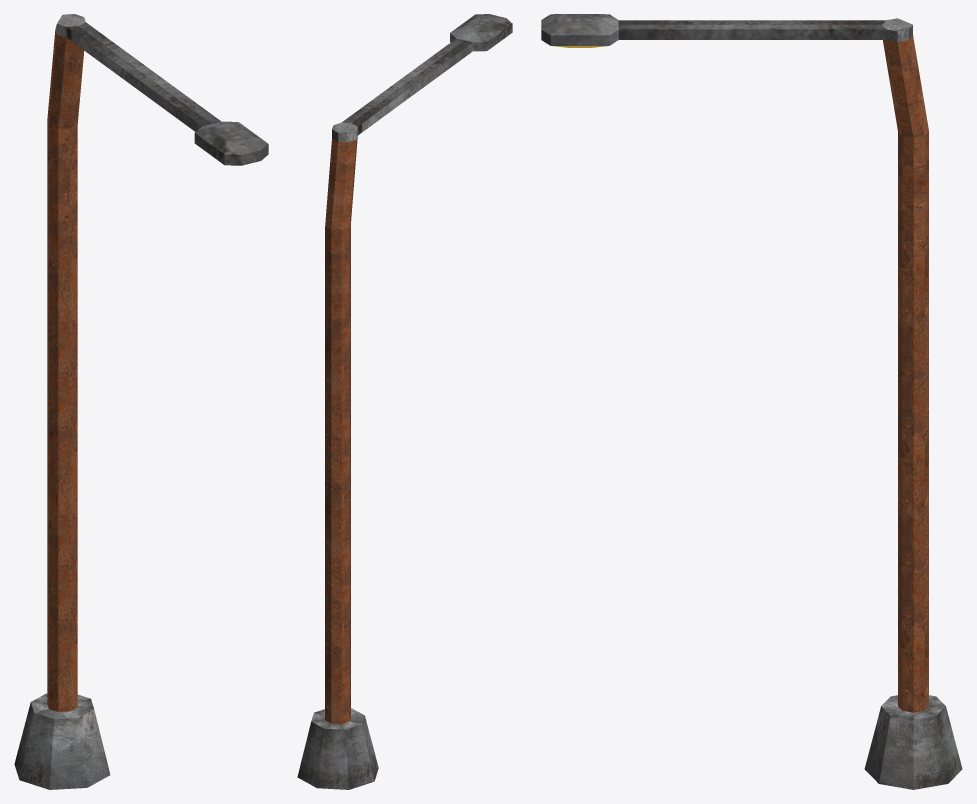
File: lot light.fbx
3 renders of one model, left to right at view 1: azimuth 30°, elevation 25°; view 2: azimuth 150°, elevation 25°; view 3: azimuth 270°, elevation 25°, orthographic. The views are drawn at different scales.
Parts seen in each view (by area): view 1: Circle; view 2: Circle; view 3: Circle.
Part boxes in pixels (x1=…): Circle: x1=14, y1=14, x2=268, y2=789; Circle: x1=297, y1=14, x2=512, y2=789; Circle: x1=541, y1=14, x2=962, y2=789.
Size of the model in its own units: 200 by 1687 by 859.
